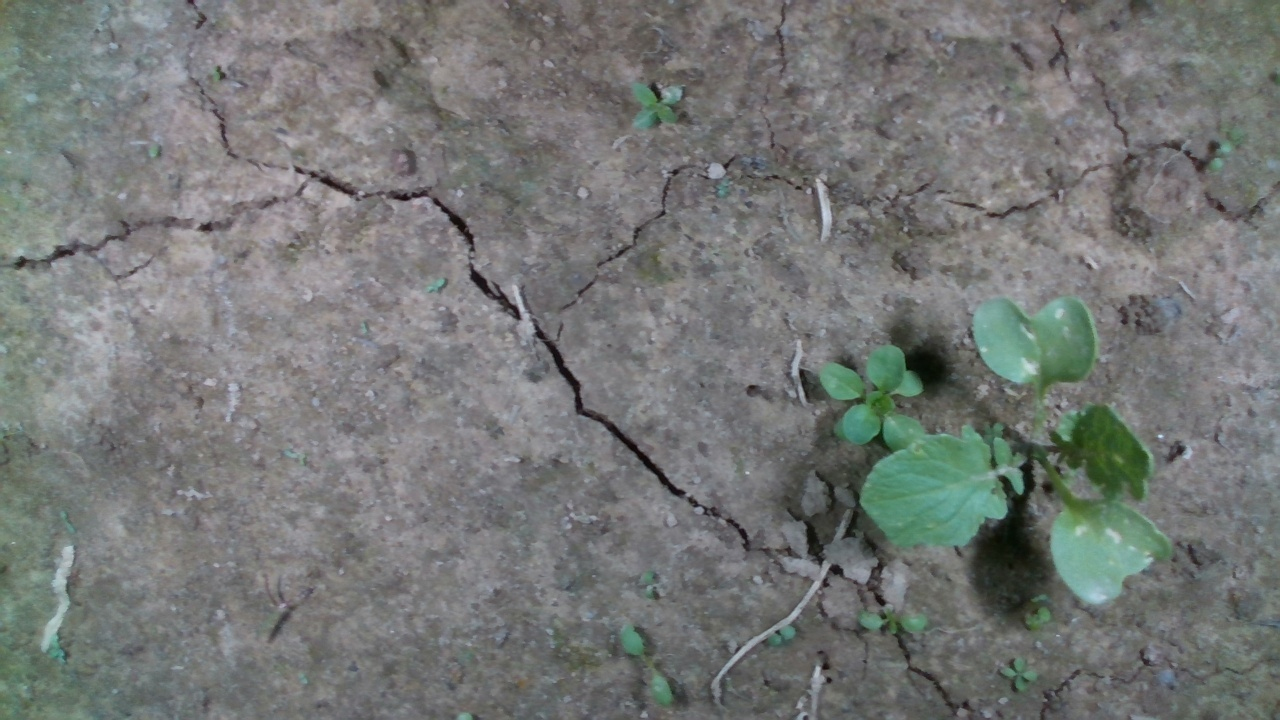weed: (629, 76, 688, 130), (858, 603, 929, 636), (999, 655, 1041, 692), (765, 623, 801, 646), (422, 274, 453, 295)
